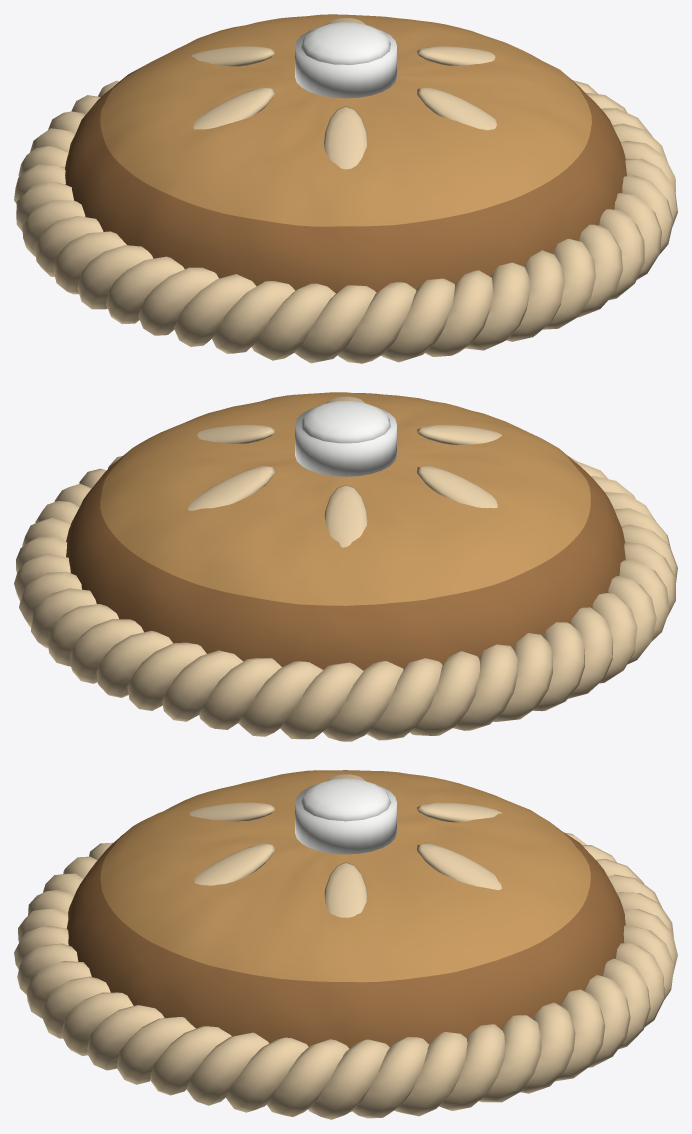
Rendered from SM_Karavai.fbx.
The picture shows the model from 3 angles, top to bottom: view 1: azimuth 30°, elevation 25°; view 2: azimuth 150°, elevation 25°; view 3: azimuth 270°, elevation 25°; orthographic projection.
Parts seen in each view (by area): view 1: SM_Karavai; view 2: SM_Karavai; view 3: SM_Karavai.
Boxes of the visible parts, <box> form: SM_Karavai: <box>14,14,677,363</box>; SM_Karavai: <box>14,392,677,741</box>; SM_Karavai: <box>14,770,677,1119</box>.
Bounding box in the file's own units: 0.5867 × 0.2008 × 0.5863.
